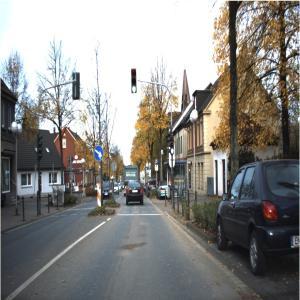keep right: (95, 146, 104, 163)
